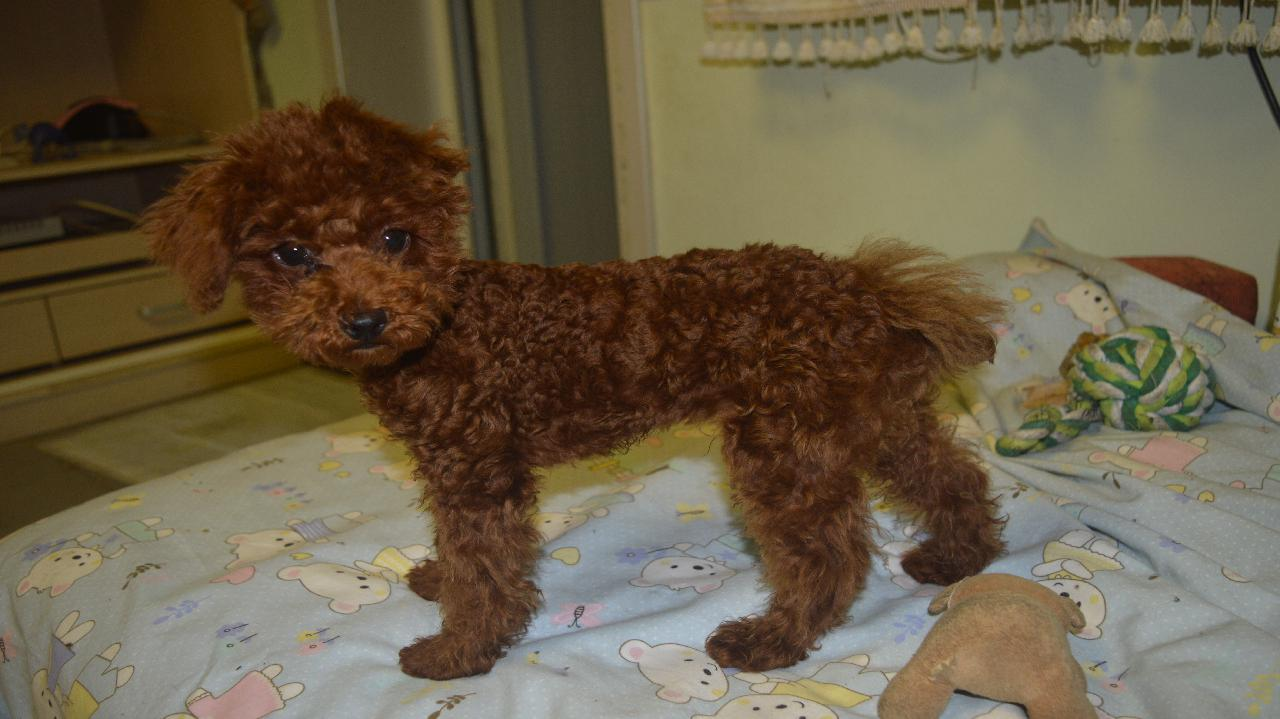coin: (157, 99, 1027, 666)
